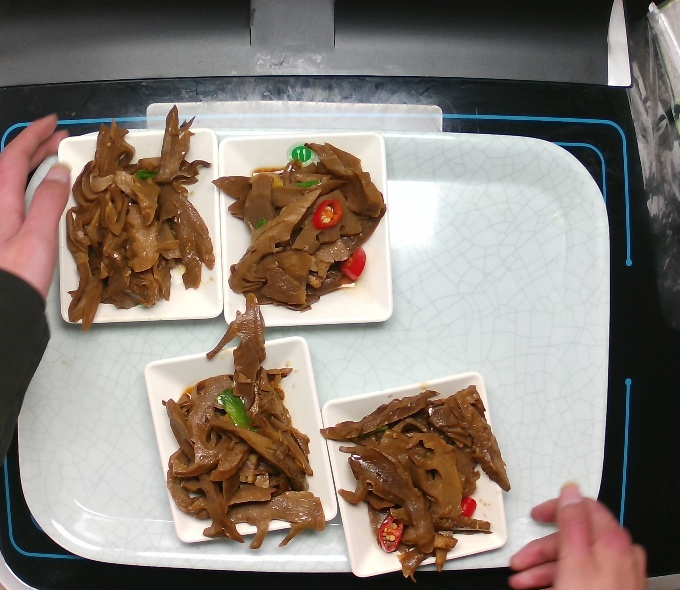wcq-SunGan: (154, 297, 337, 555), (50, 102, 225, 334), (321, 383, 515, 584), (206, 132, 390, 316)
